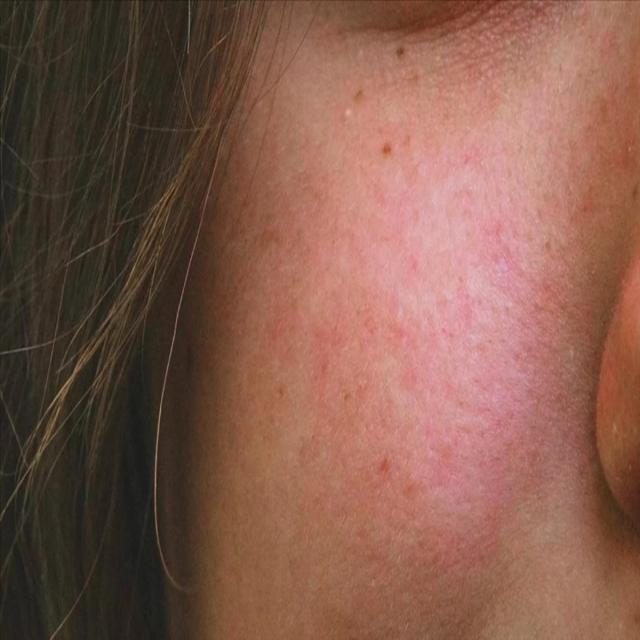Rosacea: (317, 142, 551, 576)
